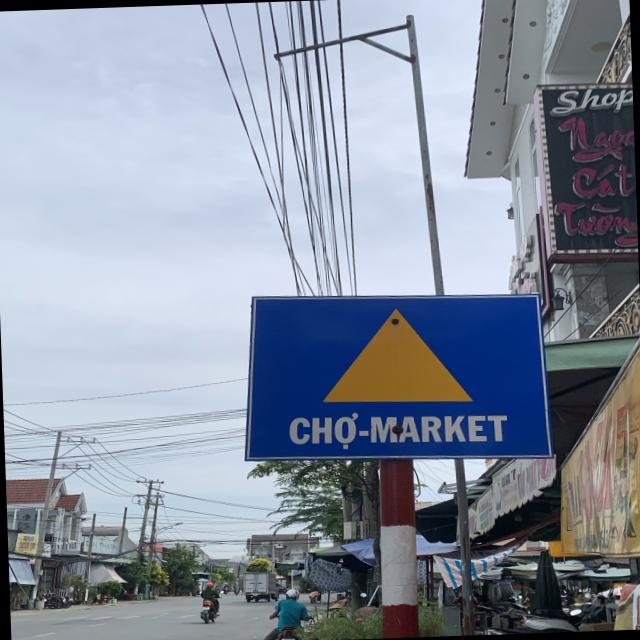Cho_Quay_Xe: (246, 288, 546, 466)
